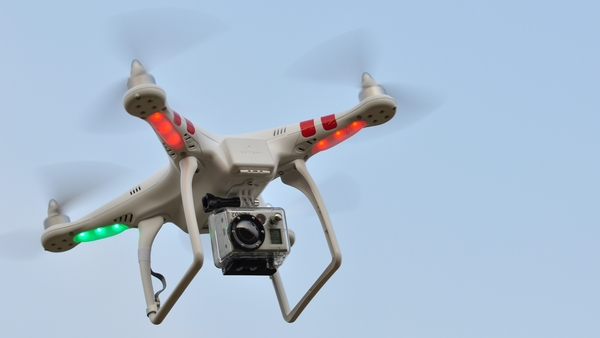drone: (36, 53, 405, 327)
